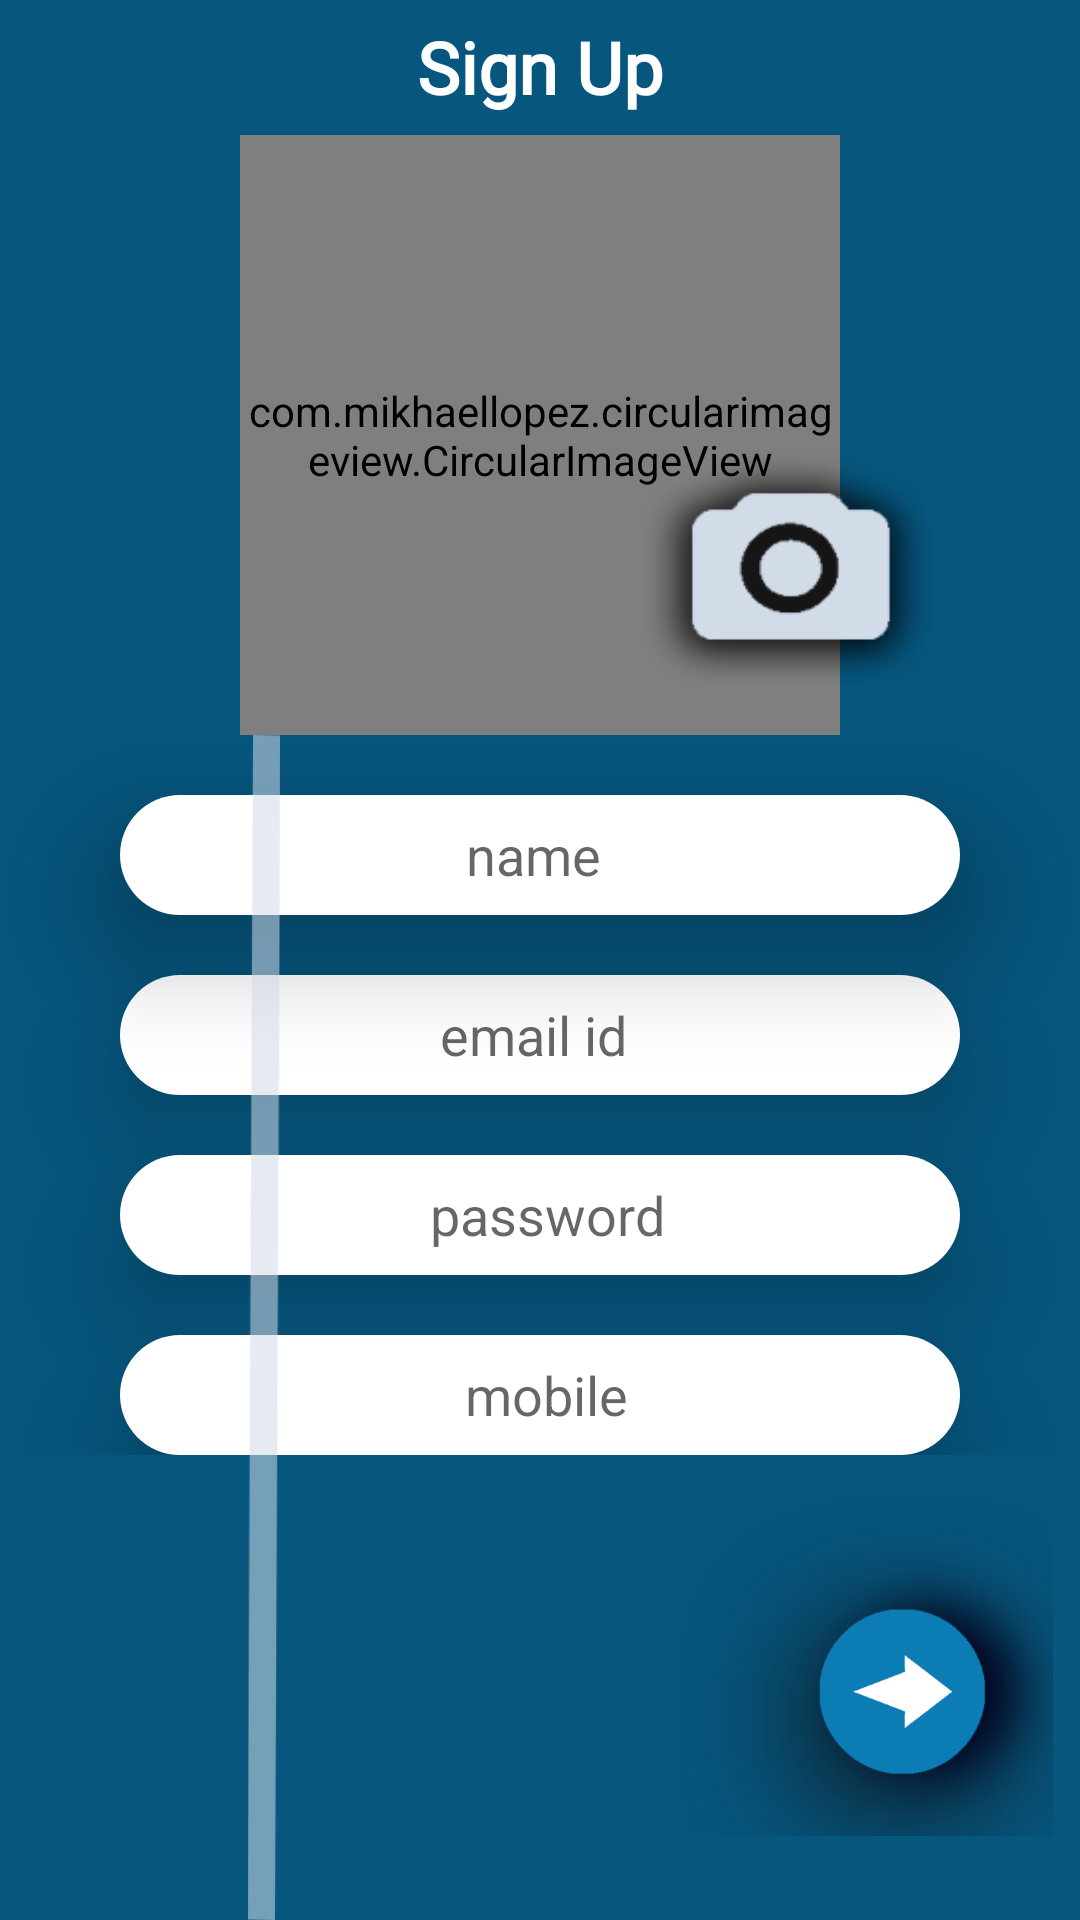

Named icons in this screenshot (1080×1920) and their centers, (x=x, y=y):
cameraicon: (x=789, y=570)
nextbtn: (x=909, y=1707)
